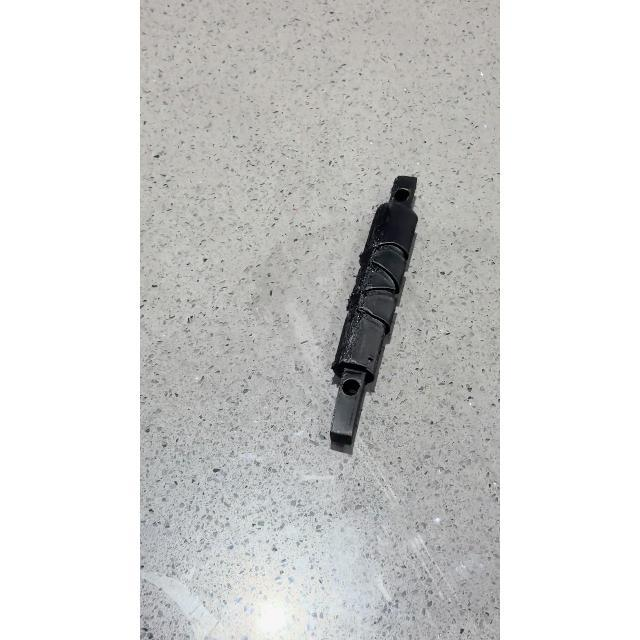Pieza1: (324, 162, 424, 460)
